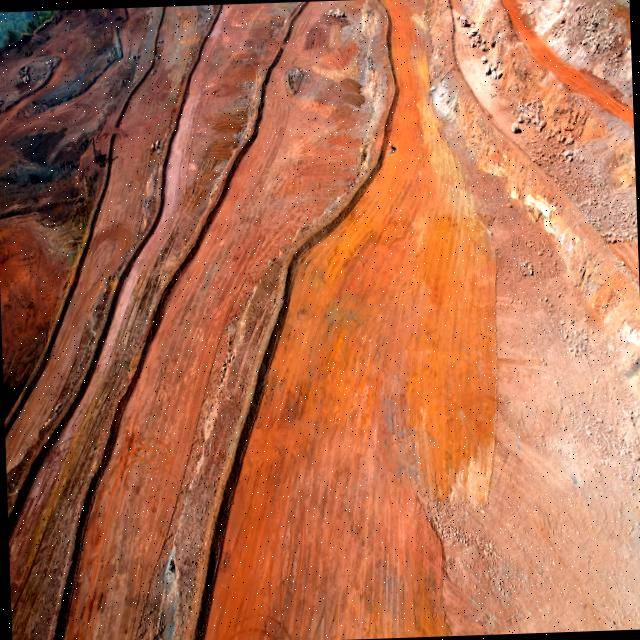Blast rig: (88, 134, 100, 162)
